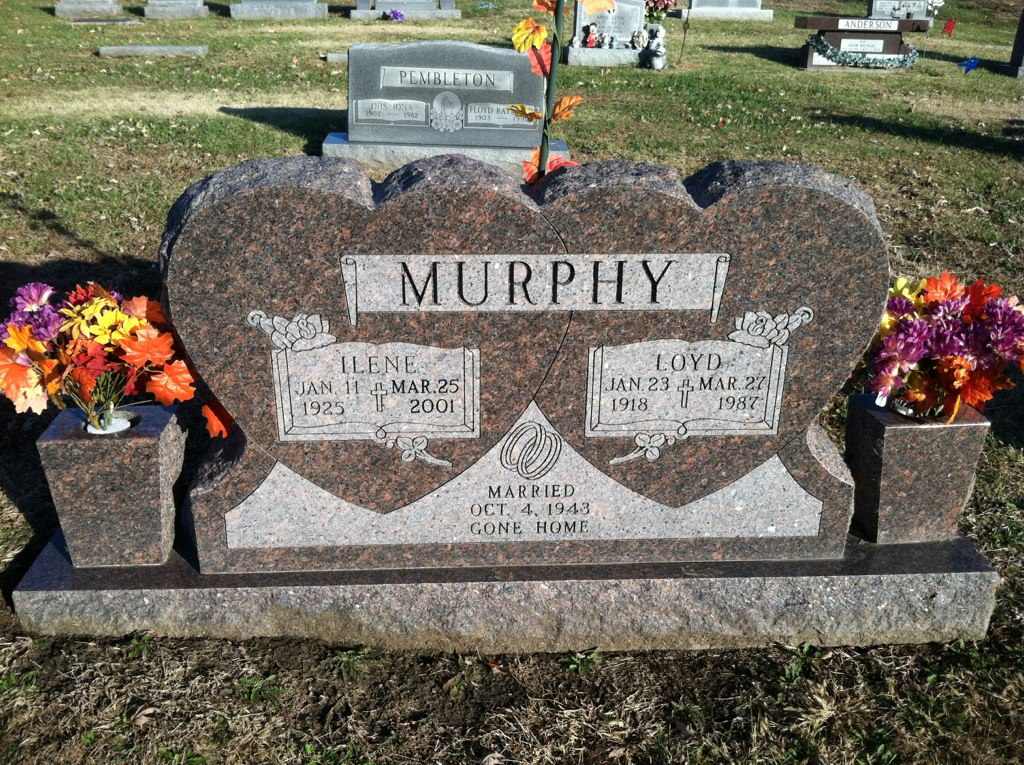upright: (0, 152, 1003, 642)
